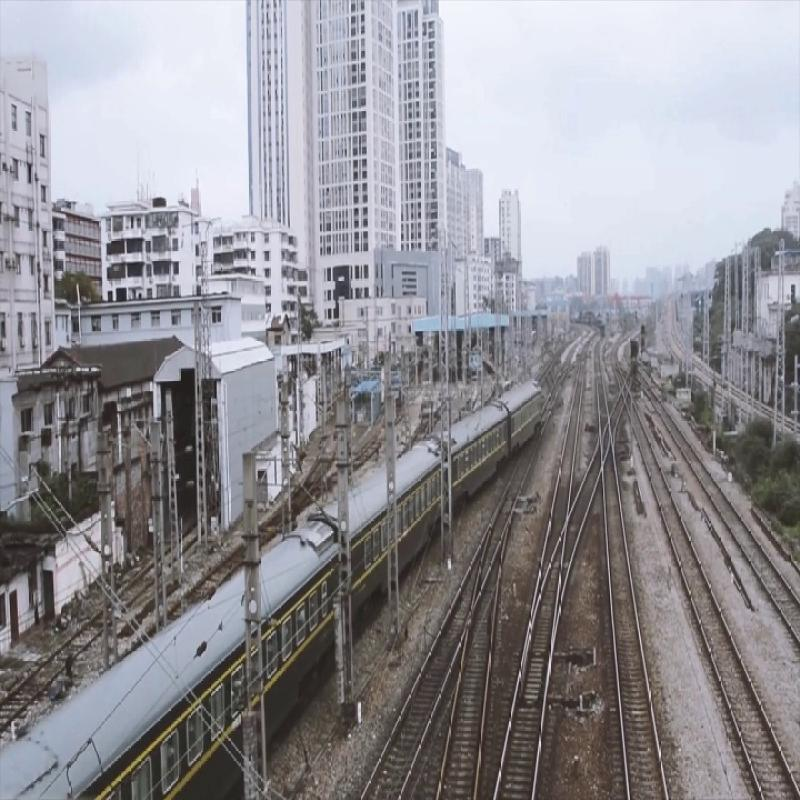train: (329, 500, 459, 585)
